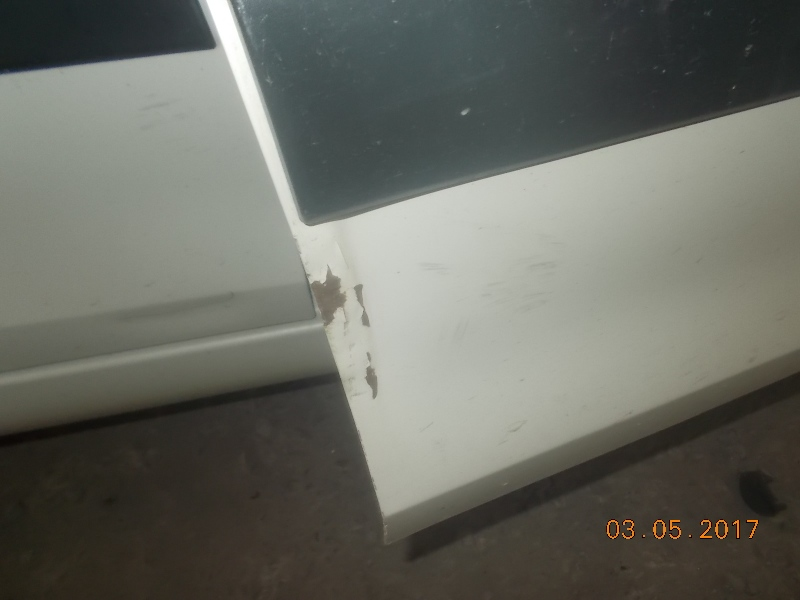Scratch_or_spot: (362, 354, 392, 412), (315, 277, 348, 309), (354, 283, 372, 329)
